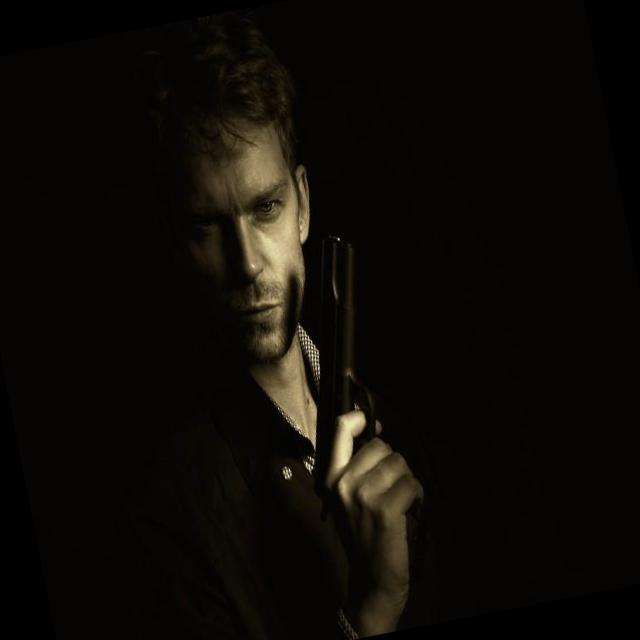Gun: (316, 235, 376, 491)
